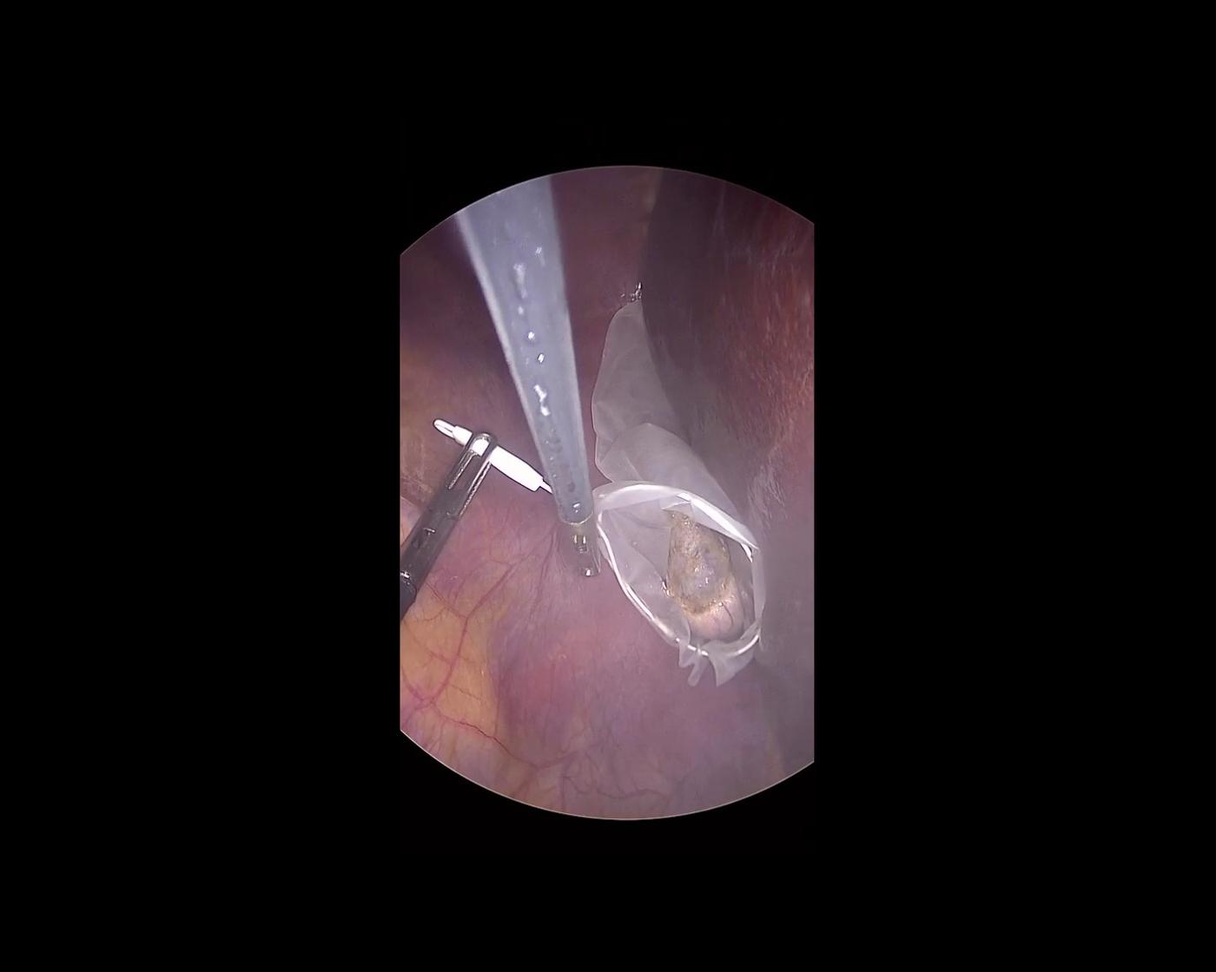Bag: (433, 282, 848, 731)
Forceps: (450, 175, 602, 588), (371, 420, 508, 621)
Gallbladder: (650, 503, 748, 648)
Liver: (640, 168, 812, 777)
